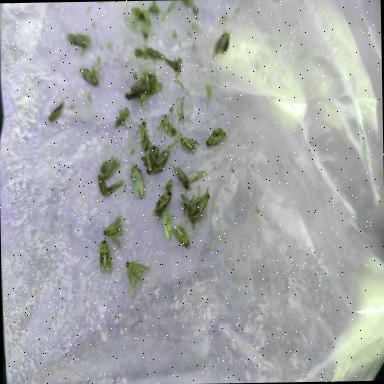pbw: (168, 162, 208, 193), (123, 259, 150, 297), (171, 219, 198, 252), (147, 188, 173, 220), (128, 158, 148, 198), (100, 216, 124, 248), (189, 187, 210, 219), (160, 207, 178, 240), (96, 237, 112, 273), (178, 135, 200, 159), (103, 155, 122, 180), (134, 121, 148, 150), (156, 113, 172, 138), (206, 128, 228, 146), (177, 192, 194, 214), (153, 150, 170, 167), (98, 174, 107, 196), (145, 150, 152, 175), (164, 178, 172, 192), (148, 145, 156, 158)
